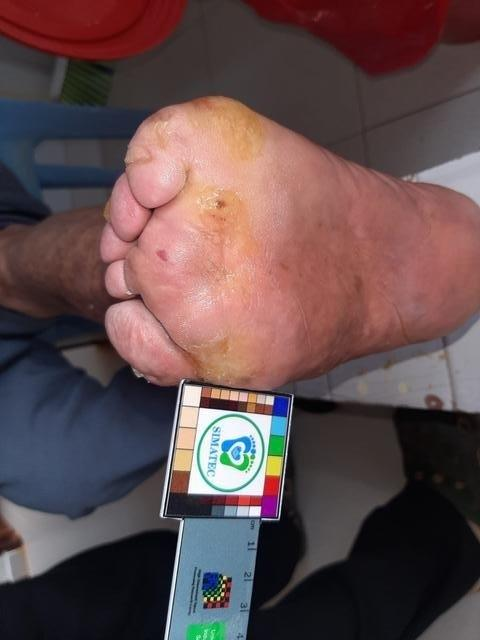wound: (208, 195, 231, 218), (155, 248, 169, 263)
